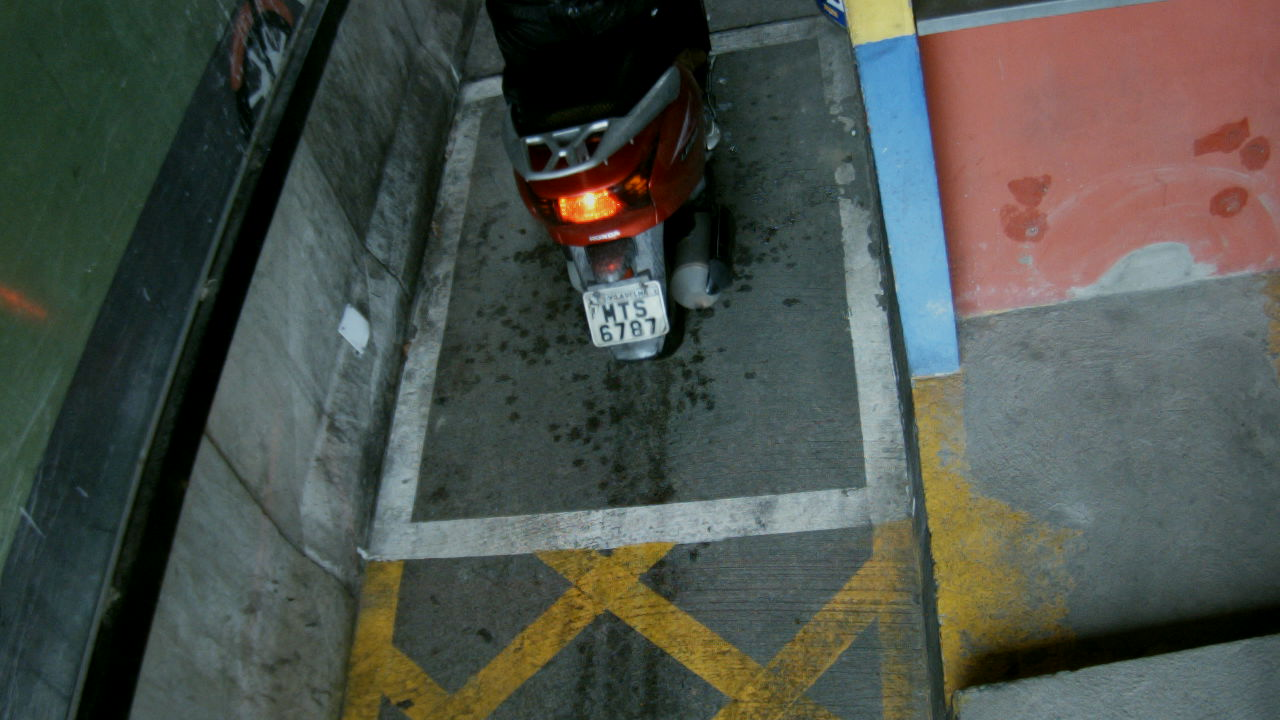placa: (581, 279, 672, 350)
